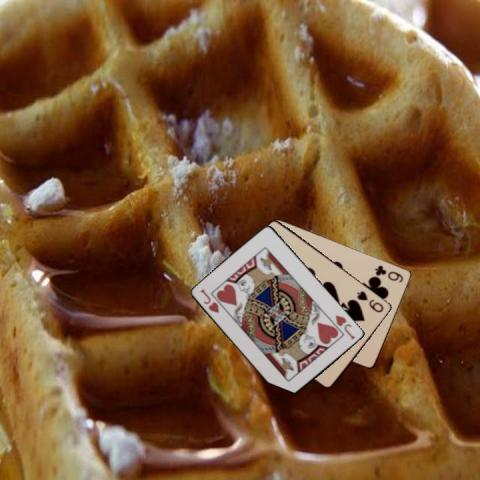6c: (372, 262, 405, 284)
9s: (354, 288, 385, 314)
Jh: (197, 285, 221, 315), (332, 312, 356, 341)
